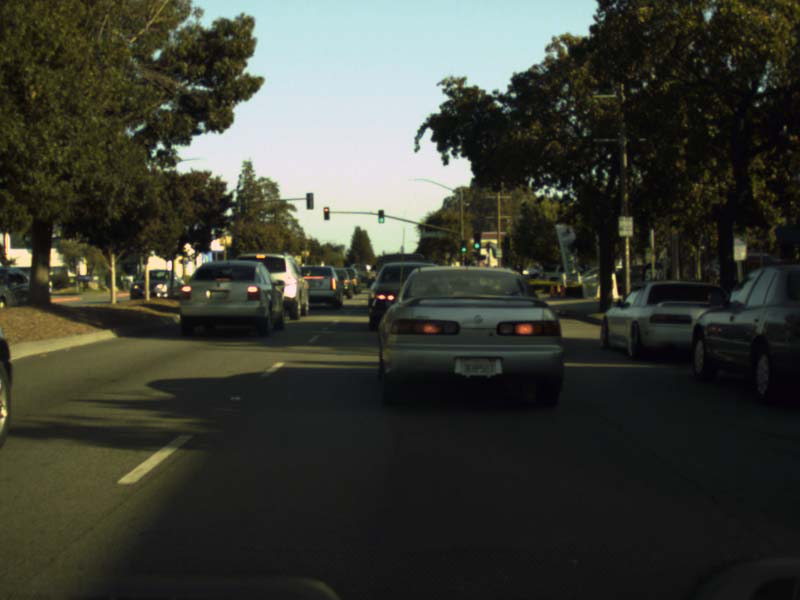Green: (472, 233, 479, 248), (377, 208, 384, 222), (461, 240, 466, 252)
Red: (323, 206, 329, 220)
